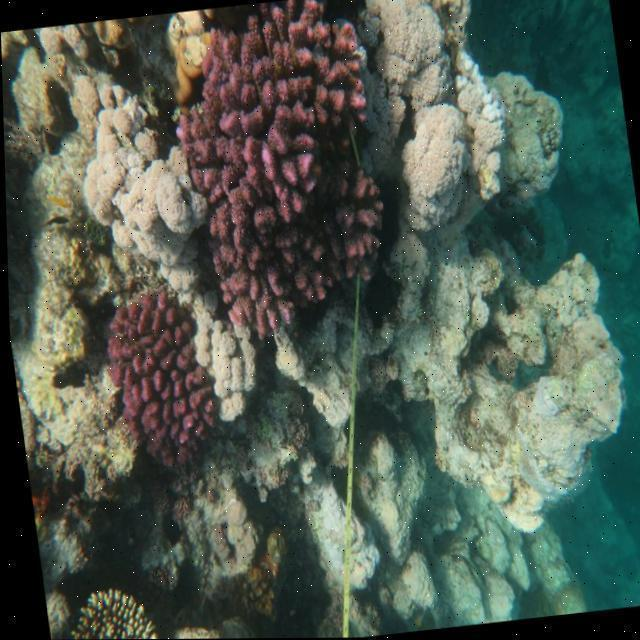Bleached Coral: (75, 70, 212, 295), (190, 298, 251, 418)
Healthy Coral: (172, 2, 390, 312), (92, 287, 224, 502), (63, 554, 154, 640)
